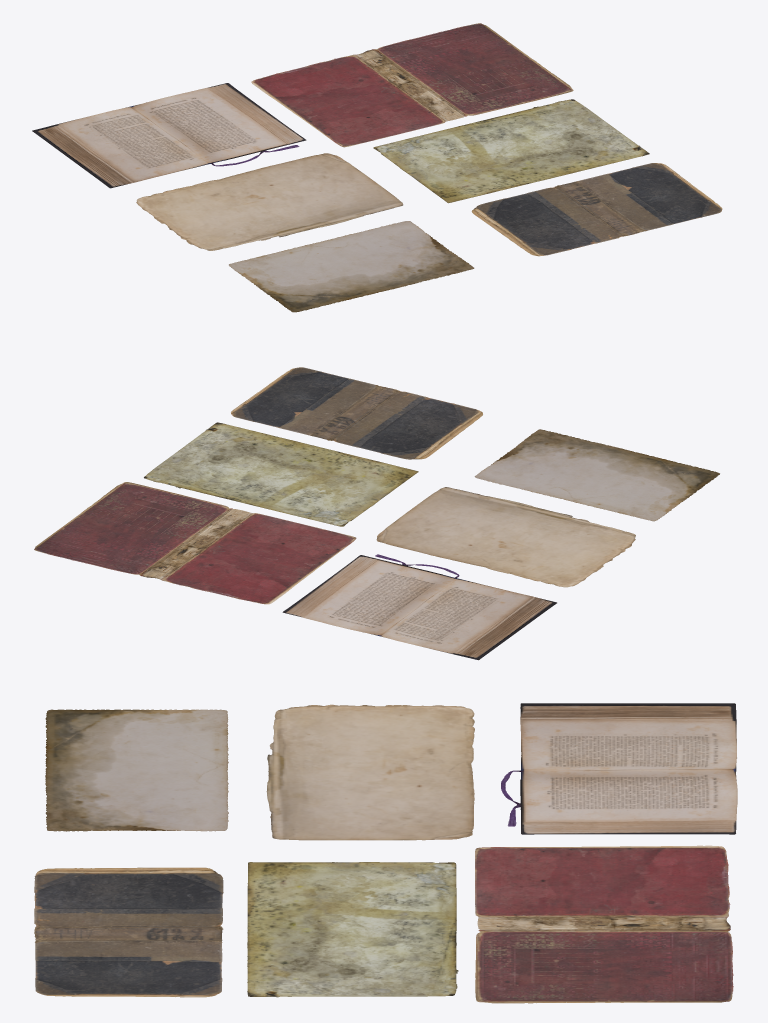
The model's file is books.fbx.
The picture shows the model from 3 angles, top to bottom: view 1: azimuth 30°, elevation 25°; view 2: azimuth 150°, elevation 25°; view 3: azimuth 270°, elevation 25°; orthographic projection. The views are drawn at different scales.
Parts seen in each view (by area): view 1: 2, 1, 4, 3, 6, 5; view 2: 2, 1, 4, 3, 6, 5; view 3: 2, 1, 4, 3, 6, 5.
Boxes of the visible parts, bbox=[...] form: 2: bbox=[251, 23, 573, 147]; 1: bbox=[32, 83, 306, 188]; 4: bbox=[373, 99, 649, 203]; 3: bbox=[136, 153, 403, 250]; 6: bbox=[471, 163, 722, 256]; 5: bbox=[229, 221, 474, 312]; 2: bbox=[34, 482, 356, 604]; 1: bbox=[282, 554, 556, 660]; 4: bbox=[144, 422, 418, 526]; 3: bbox=[376, 487, 635, 587]; 6: bbox=[231, 367, 482, 459]; 5: bbox=[474, 429, 719, 521]; 2: bbox=[475, 845, 733, 1003]; 1: bbox=[501, 703, 737, 834]; 4: bbox=[247, 862, 458, 997]; 3: bbox=[266, 704, 474, 840]; 6: bbox=[34, 867, 223, 997]; 5: bbox=[45, 709, 228, 831].
Bounding box in the file's own units: 1 × 0 × 1.
